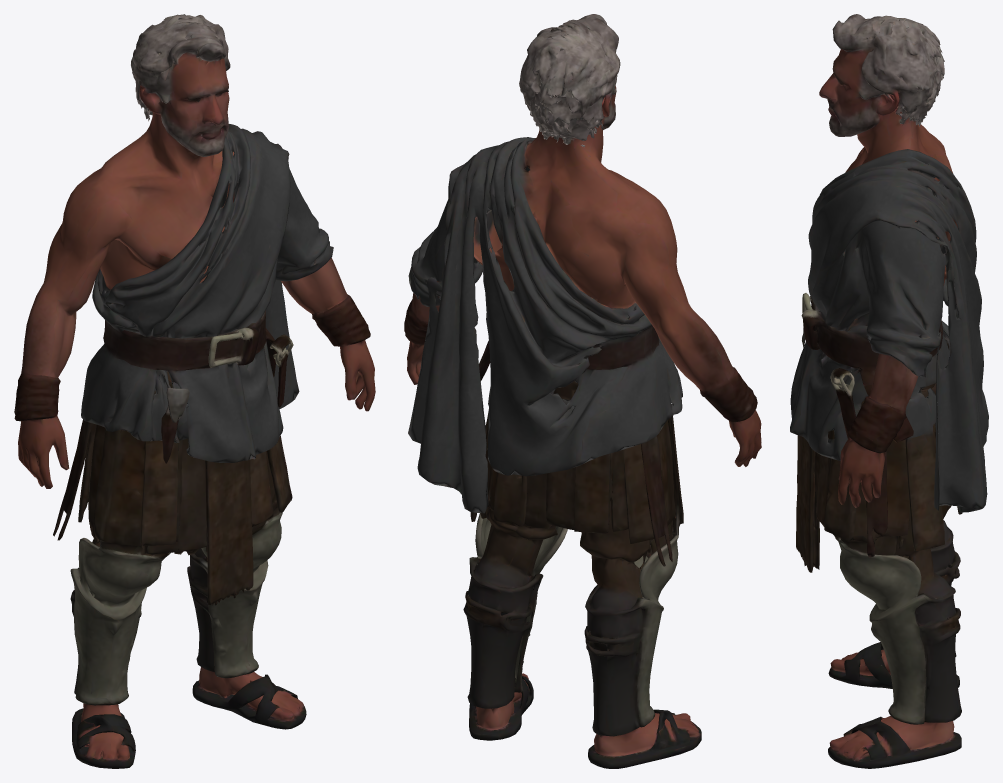
Rendered from veteran.glb.
3 renders of one model, left to right at view 1: azimuth 30°, elevation 25°; view 2: azimuth 150°, elevation 25°; view 3: azimuth 270°, elevation 25°, orthographic.
Visible parts, largest first — view 1: world; view 2: world; view 3: world.
Boxes of the visible parts, left/top/right/bottom form: world: left=14, top=14, right=375, bottom=768; world: left=404, top=14, right=761, bottom=768; world: left=790, top=14, right=988, bottom=768.
Size of the model in its own units: 0.5183 by 1 by 0.2569.
1 material, 1 textured.
